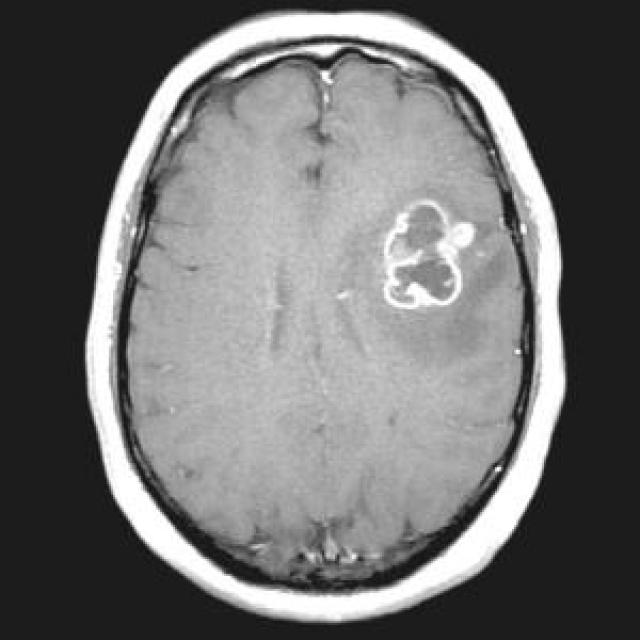Tumor: (377, 198, 468, 318)
